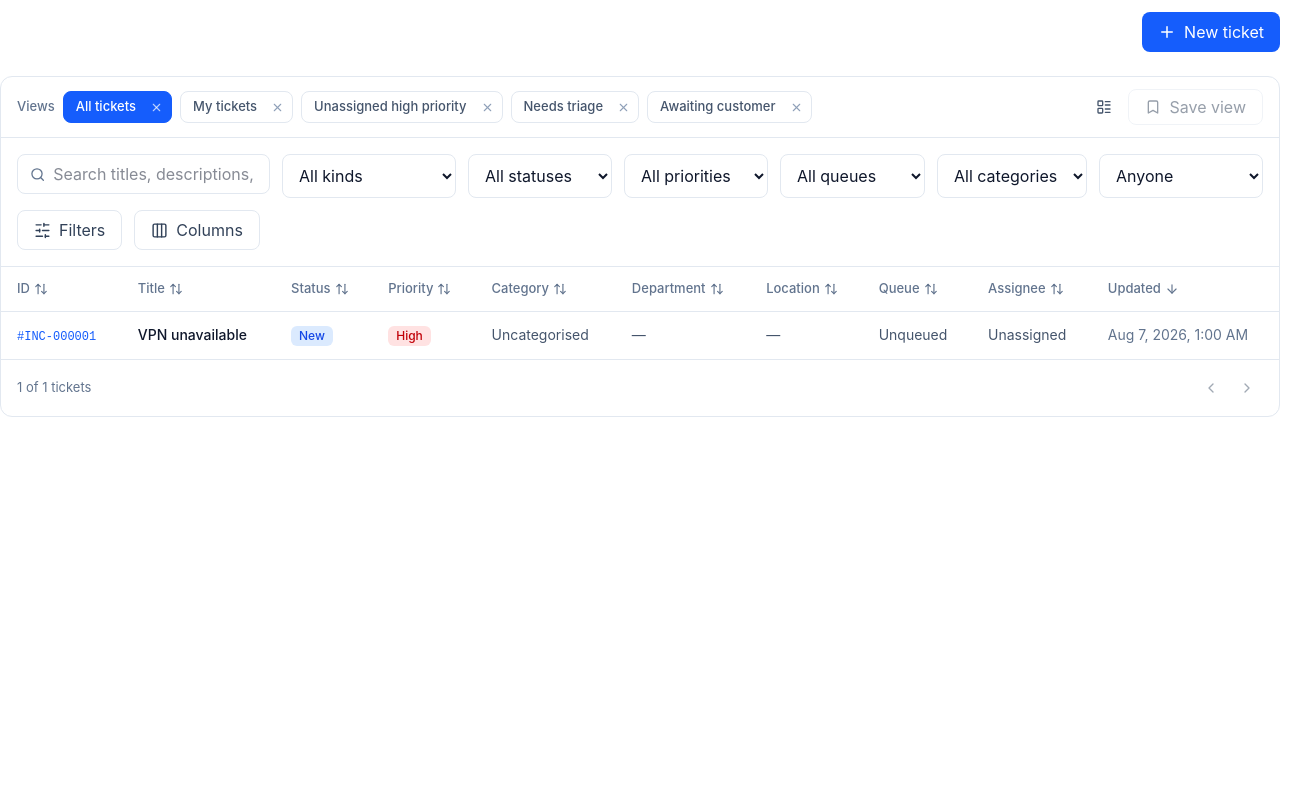
Test: TicketListPage › sends the typed search term to the API and shows the empty state when nothing matches
Check: the link "VPN unavailable" is shown, box left=138, top=326, right=247, bottom=343
Type "printer" into the field named "Search tickets".
click(155, 174); type("printer")  # box left=53, top=162, right=257, bottom=186
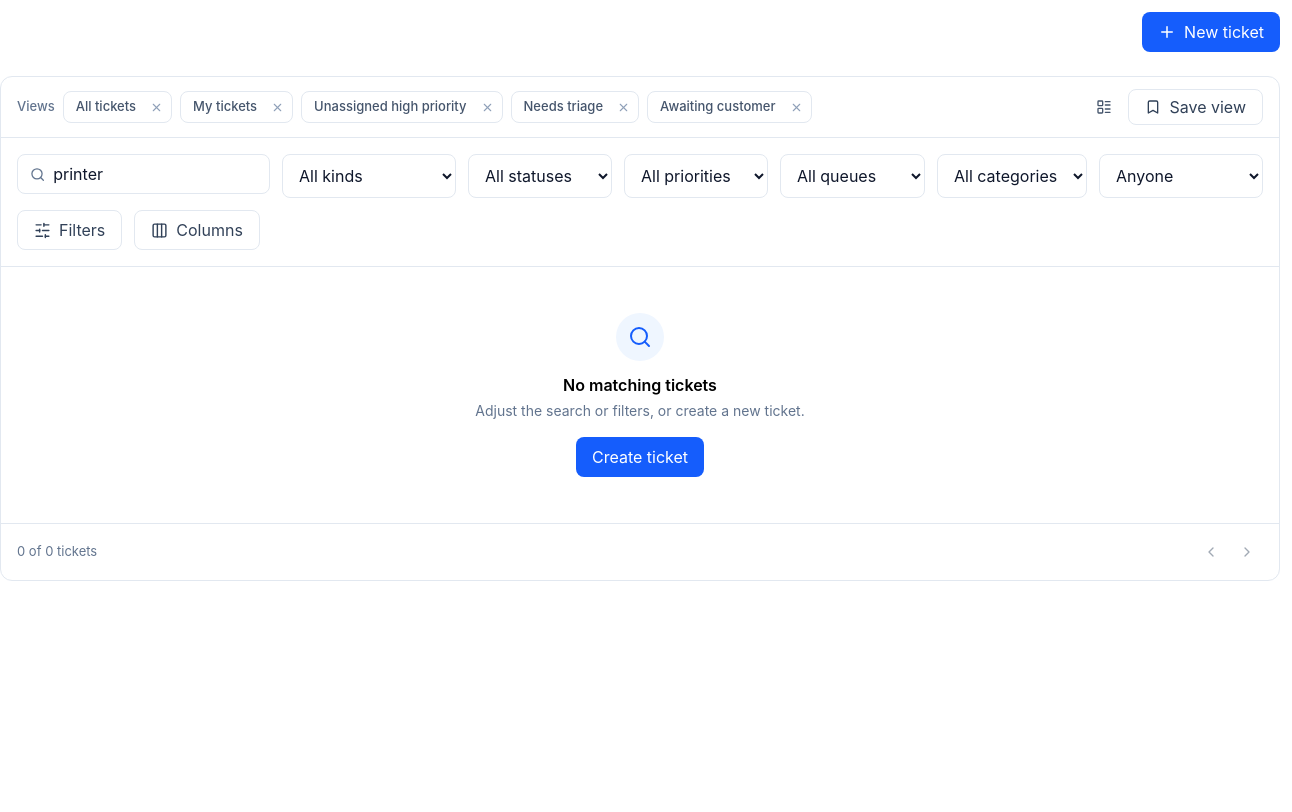
Check: the heading "No matching tickets" is shown, box left=563, top=375, right=717, bottom=395
